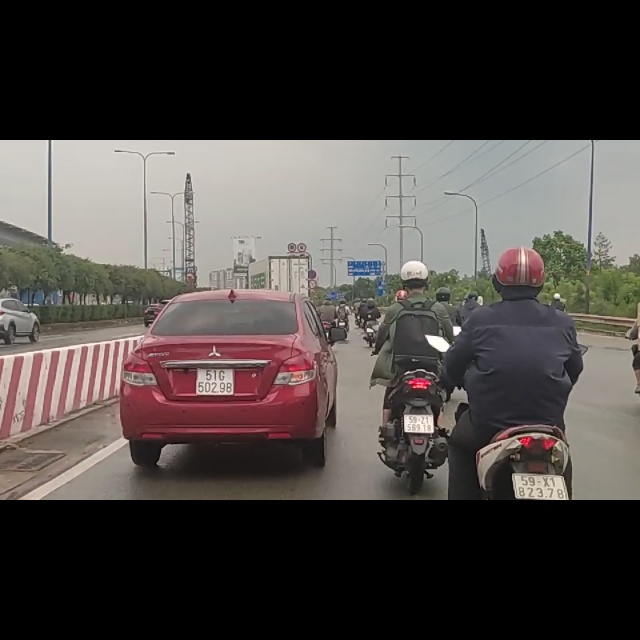bien_cam: (307, 231, 318, 248)
